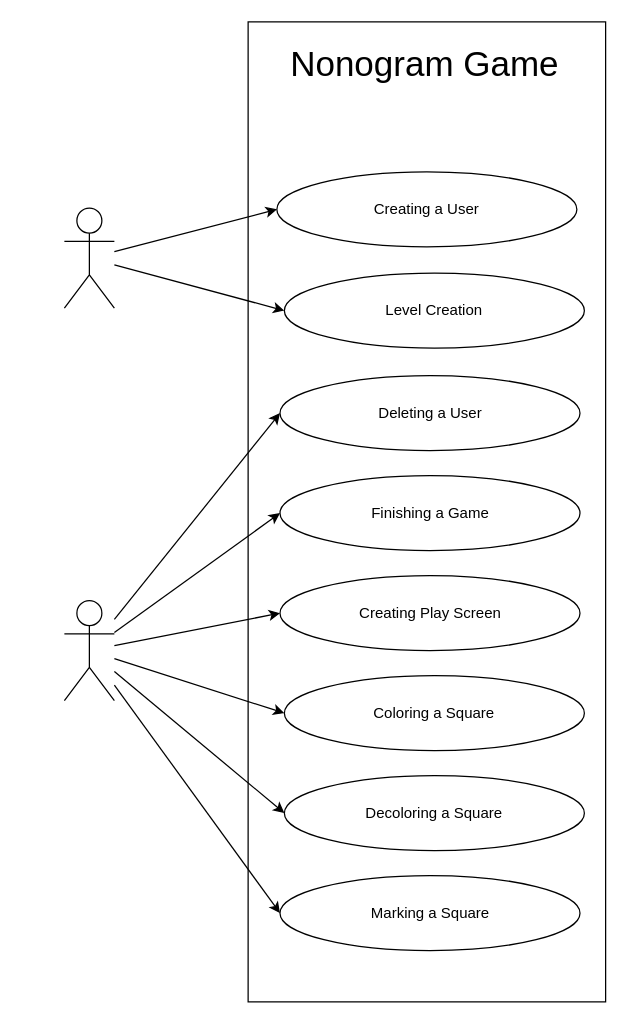
Some shapes in this 628 by 1024 pixel diagram are drawn without their labels. The shapes that lost their labels are listed below. From the top down, each one's box as (x1, y1, x2, y2) in pixels, then its label:
(63, 207, 114, 308): Non-registered User
(63, 599, 114, 701): Registered User
